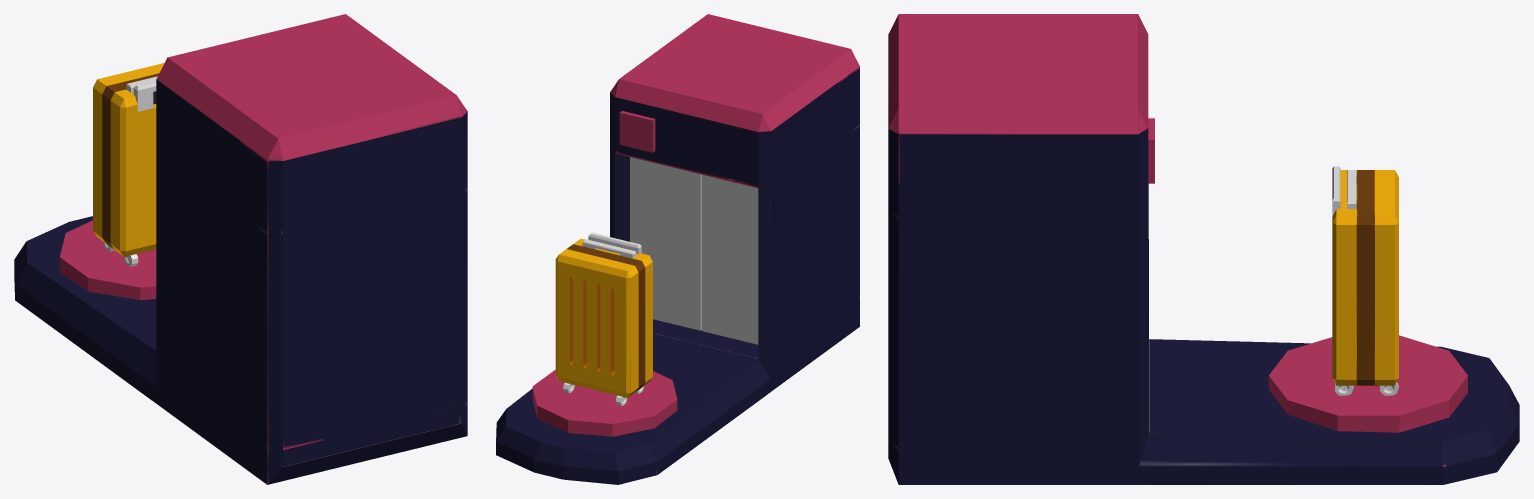
File: MachineAnimation.fbx
3 renders of one model, left to right at view 1: azimuth 30°, elevation 25°; view 2: azimuth 150°, elevation 25°; view 3: azimuth 270°, elevation 25°, orthographic. The views are drawn at different scales.
Parts seen in each view (by area): view 1: Cube.004, Cube.002, Cylinder; view 2: Cube.004, Cube.002, Cube.005, Cube.006, Cylinder; view 3: Cube.004, Cube.002, Cylinder.
Part boxes in pixels (x1,y1,x2,y2): Cube.004: (14,14,467,484); Cube.002: (93,63,164,266); Cylinder: (59,220,156,300); Cube.004: (496,14,859,484); Cube.002: (555,232,652,405); Cube.005: (630,157,701,330); Cube.006: (702,174,758,344); Cylinder: (532,370,677,436); Cube.004: (888,14,1519,484); Cube.002: (1332,166,1398,395); Cylinder: (1268,335,1467,432).
Bounding box in the file's own units: 4.64 × 7.59 × 11.7.
